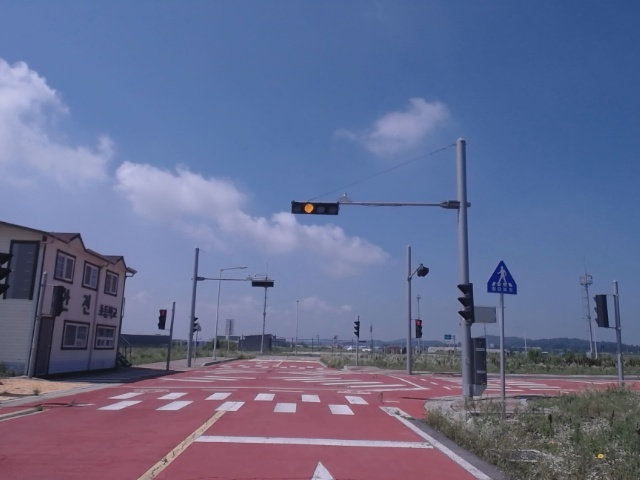orange_4: (292, 199, 340, 216)
